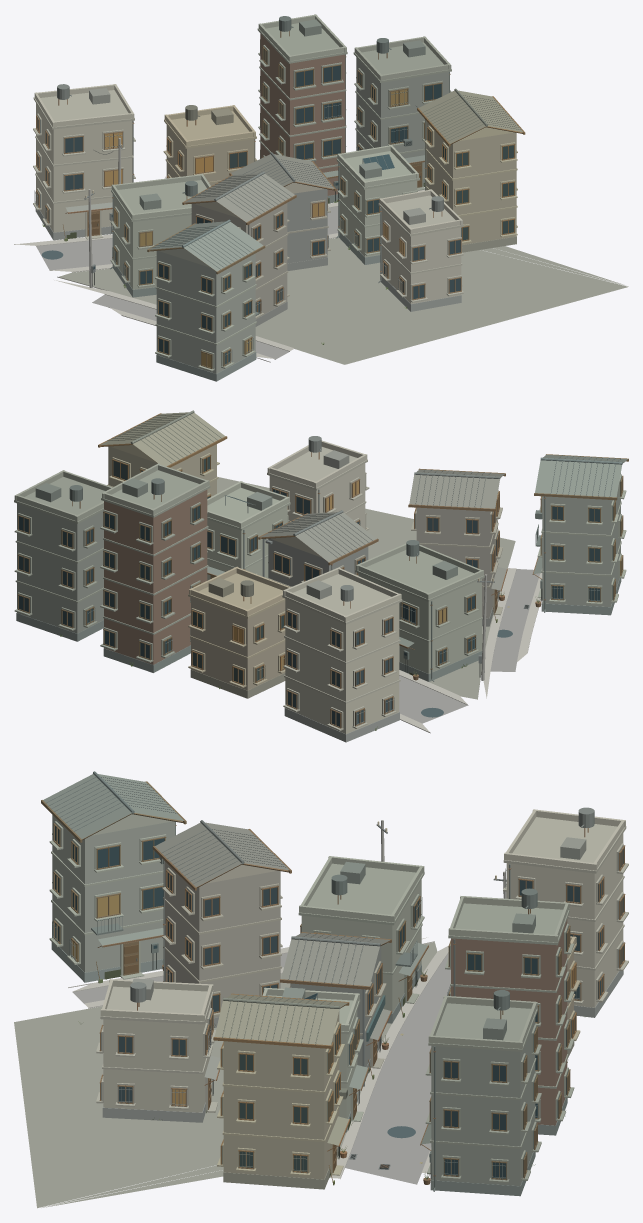
Rendered from street_6_4.glb.
The picture shows the model from 3 angles, top to bottom: view 1: azimuth 30°, elevation 25°; view 2: azimuth 150°, elevation 25°; view 3: azimuth 270°, elevation 25°; orthographic projection. The views are drawn at different scales.
Visible parts, largest first — view 1: trim.007, plaster.007, concrete.003, ground.076, roof_metal.007, wood.007, glass.007, metal.007, graybrick.006, brick.003, road.022, paving.053 (+2 smaller); view 2: plaster.007, trim.007, concrete.003, roof_metal.007, brick.003, wood.007, glass.007, graybrick.006, metal.007, road.022, ground.076, paving.053 (+2 smaller); view 3: concrete.003, trim.007, plaster.007, ground.076, roof_metal.007, wood.007, road.022, metal.007, glass.007, brick.003, graybrick.006, paving.053 (+3 smaller).
Part boxes in pixels (<box>): trim.007: <box>33,23,517,371</box>; plaster.007: <box>34,14,514,303</box>; concrete.003: <box>88,57,516,373</box>; ground.076: <box>59,237,628,364</box>; roof_metal.007: <box>65,19,522,271</box>; wood.007: <box>36,46,525,368</box>; glass.007: <box>37,49,513,364</box>; metal.007: <box>34,16,521,366</box>; graybrick.006: <box>35,179,516,381</box>; brick.003: <box>260,33,345,195</box>; road.022: <box>36,206,338,359</box>; paving.053: <box>14,189,424,362</box>; plaster.007: <box>14,440,483,733</box>; trim.007: <box>14,447,626,730</box>; concrete.003: <box>17,444,620,690</box>; roof_metal.007: <box>35,412,627,646</box>; brick.003: <box>104,490,207,664</box>; wood.007: <box>17,413,628,728</box>; glass.007: <box>19,456,621,726</box>; graybrick.006: <box>16,538,621,742</box>; metal.007: <box>69,414,621,726</box>; road.022: <box>399,569,539,723</box>; ground.076: <box>217,476,515,699</box>; paving.053: <box>399,568,542,733</box>; concrete.003: <box>52,815,573,1186</box>; trim.007: <box>49,817,628,1183</box>; plaster.007: <box>91,809,625,1118</box>; ground.076: <box>14,942,437,1208</box>; roof_metal.007: <box>43,774,586,1145</box>; wood.007: <box>41,781,625,1182</box>; road.022: <box>72,953,450,1184</box>; metal.007: <box>45,776,594,1191</box>; glass.007: <box>55,826,623,1178</box>; brick.003: <box>451,919,567,1125</box>; graybrick.006: <box>51,942,623,1196</box>; paving.053: <box>68,937,448,1178</box>.
Bounding box in the file's own units: 39.1 × 14.22 × 36.35.
